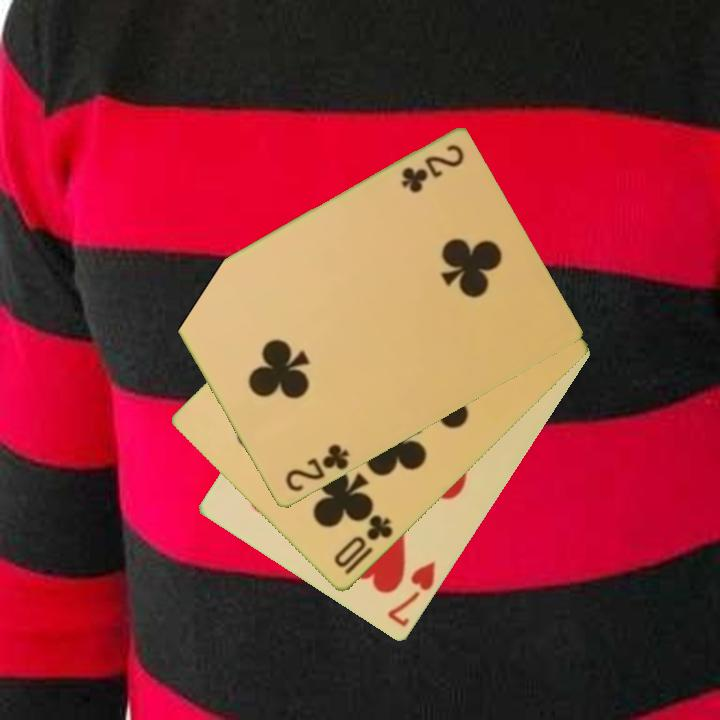10c: (330, 511, 396, 579)
2c: (281, 441, 352, 496), (397, 141, 467, 195)
7h: (384, 557, 439, 631)
